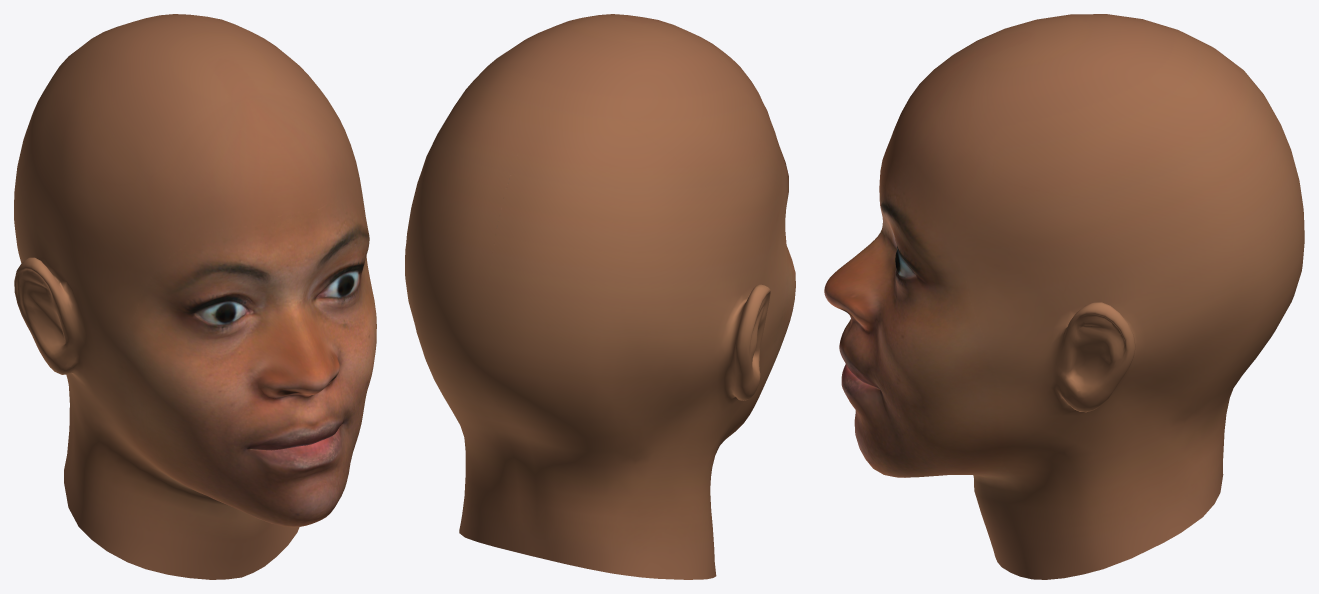
Rendered from v332_obj_ExpressionJawLeft.obj.
3 views of the same model, side by side, from view 1: azimuth 30°, elevation 25°; view 2: azimuth 150°, elevation 25°; view 3: azimuth 270°, elevation 25° (orthographic). The views are drawn at different scales.
Parts seen in each view (by area): view 1: HeadHires; view 2: HeadHires; view 3: HeadHires.
Boxes of the visible parts, bbox=[...] form: HeadHires: bbox=[14, 14, 376, 579]; HeadHires: bbox=[405, 14, 795, 579]; HeadHires: bbox=[824, 14, 1304, 579].
Size of the model in its own units: 187 by 282 by 233.
